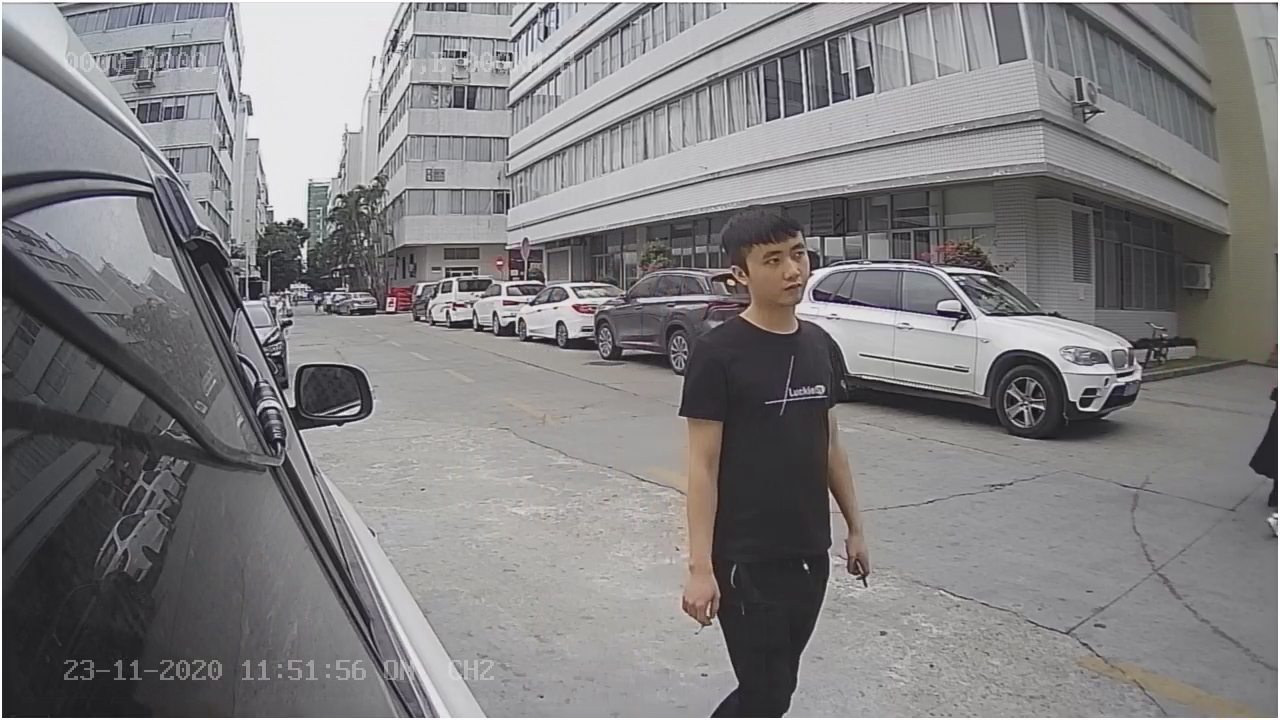person: (664, 194, 877, 525)
